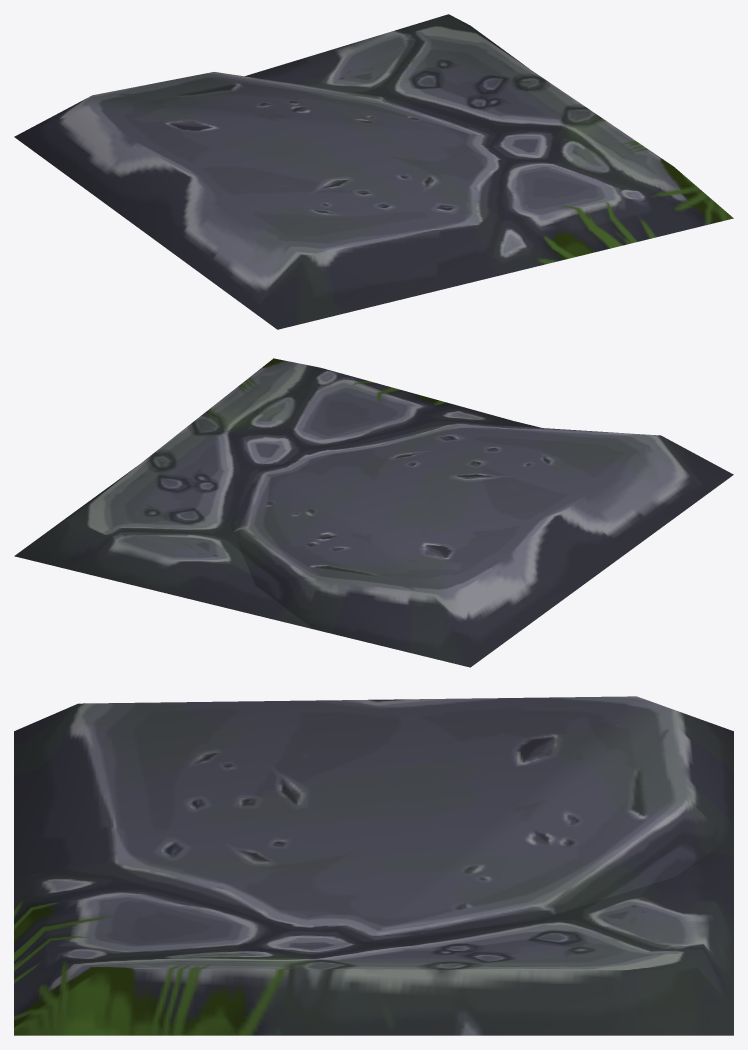
Rendered from MOD_Floor_01_O_singlestone_6.fbx.
3 renders of one model, top to bottom at view 1: azimuth 30°, elevation 25°; view 2: azimuth 150°, elevation 25°; view 3: azimuth 270°, elevation 25°, orthographic. The views are drawn at different scales.
Parts seen in each view (by area): view 1: MOD_Floor_01_O_singlestone_6; view 2: MOD_Floor_01_O_singlestone_6; view 3: MOD_Floor_01_O_singlestone_6.
Part boxes in pixels (x1=…): MOD_Floor_01_O_singlestone_6: x1=14, y1=14, x2=733, y2=329; MOD_Floor_01_O_singlestone_6: x1=14, y1=358, x2=733, y2=667; MOD_Floor_01_O_singlestone_6: x1=14, y1=696, x2=733, y2=1035.
Size of the model in its own units: 100 by 9.3 by 100.
